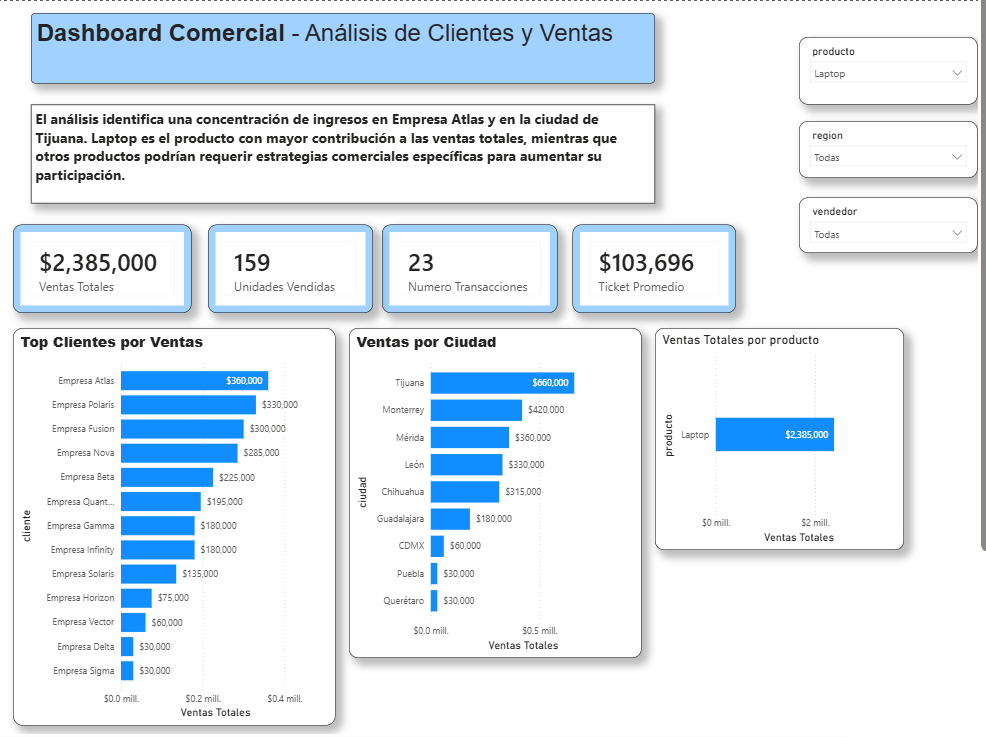

The dashboard page shown, as its layout file describes it:
{"tool":"powerbi","page":{"name":"Página 1","canvas":[1500,1300],"ordinal":0},"visuals":[{"type":"cardVisual","fields":{"Data":["clientes.Ventas Totales"]},"box":[24,298,238,118],"z":0},{"type":"cardVisual","fields":{"Data":["clientes.Numero Transacciones"]},"box":[516,298,234,118],"z":1000},{"type":"cardVisual","fields":{"Data":["clientes.Ticket Promedio"]},"box":[770,298,218,118],"z":2000},{"type":"cardVisual","fields":{"Data":["clientes.Unidades Vendidas"]},"box":[284,298,220,118],"z":3000},{"type":"clusteredBarChart","title":"Top Clientes por Ventas","fields":{"Category":["clientes.cliente"],"Y":["clientes.Ventas Totales"]},"box":[24,436,430,530],"z":3001},{"type":"clusteredBarChart","title":"Ventas por Ciudad","fields":{"Category":["clientes.ciudad"],"Y":["clientes.Ventas Totales"]},"box":[472,436,390,440],"z":3002},{"type":"clusteredBarChart","fields":{"Category":["ventas.producto"],"Y":["clientes.Ventas Totales"]},"box":[880,436,332,296],"z":3003},{"type":"slicer","fields":{"Values":["ventas.producto"]},"box":[1072,48,238,90],"z":3004},{"type":"slicer","fields":{"Values":["ventas.region"]},"box":[1072,160,238,76],"z":3005},{"type":"slicer","fields":{"Values":["ventas.vendedor"]},"box":[1072,262,238,74],"z":3006},{"type":"textbox","box":[214,18,832,94],"z":3007},{"type":"textbox","box":[214,130,832,132],"z":3008}]}

Visuals, with their boxes on the page's 1500x1300 design canvas (x1, y1, x2, y2). These are canvas units, not pixel positions in the 986x737 screenshot, which may show the page scaled, cropped or inside an application window:
cardVisual - clientes.Ventas Totales: left=24, top=298, right=262, bottom=416
cardVisual - clientes.Numero Transacciones: left=516, top=298, right=750, bottom=416
cardVisual - clientes.Ticket Promedio: left=770, top=298, right=988, bottom=416
cardVisual - clientes.Unidades Vendidas: left=284, top=298, right=504, bottom=416
"Top Clientes por Ventas" clusteredBarChart: left=24, top=436, right=454, bottom=966
"Ventas por Ciudad" clusteredBarChart: left=472, top=436, right=862, bottom=876
clusteredBarChart - ventas.producto x clientes.Ventas Totales: left=880, top=436, right=1212, bottom=732
slicer - ventas.producto: left=1072, top=48, right=1310, bottom=138
slicer - ventas.region: left=1072, top=160, right=1310, bottom=236
slicer - ventas.vendedor: left=1072, top=262, right=1310, bottom=336
textbox: left=214, top=18, right=1046, bottom=112
textbox: left=214, top=130, right=1046, bottom=262
